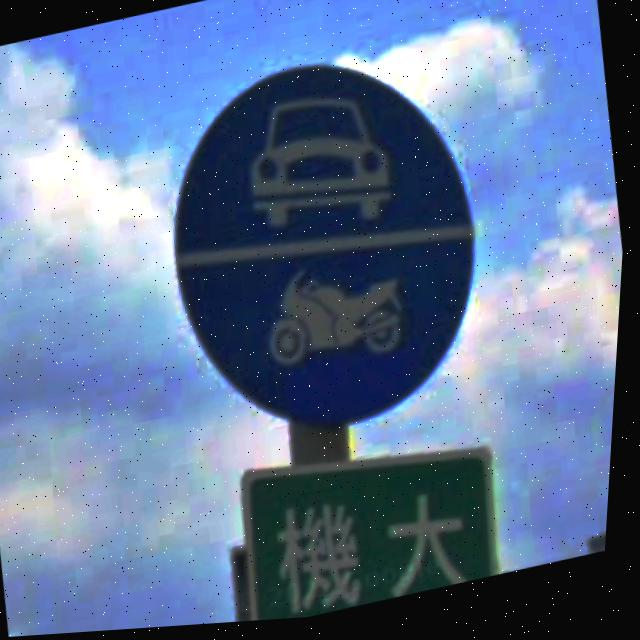carmotorcycle: (177, 72, 479, 431)
